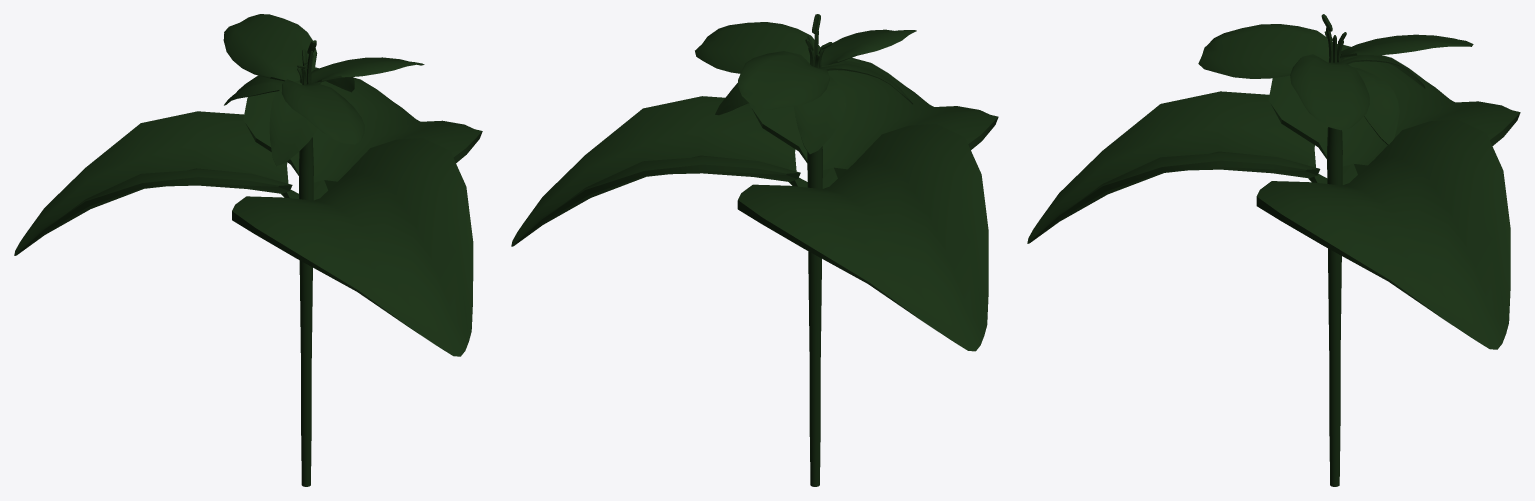
File: Platform_Trillium.FBX
3 renders of one model, left to right at view 1: azimuth 30°, elevation 25°; view 2: azimuth 150°, elevation 25°; view 3: azimuth 270°, elevation 25°, orthographic. The views are drawn at different scales.
Parts seen in each view (by area): view 1: Leaf_low; view 2: Leaf_low; view 3: Leaf_low.
Part boxes in pixels (bbox=[...]): Leaf_low: bbox=[14, 14, 482, 486]; Leaf_low: bbox=[511, 14, 998, 486]; Leaf_low: bbox=[1027, 14, 1520, 486].
Size of the model in its own units: 56.81 by 54.95 by 52.13.
